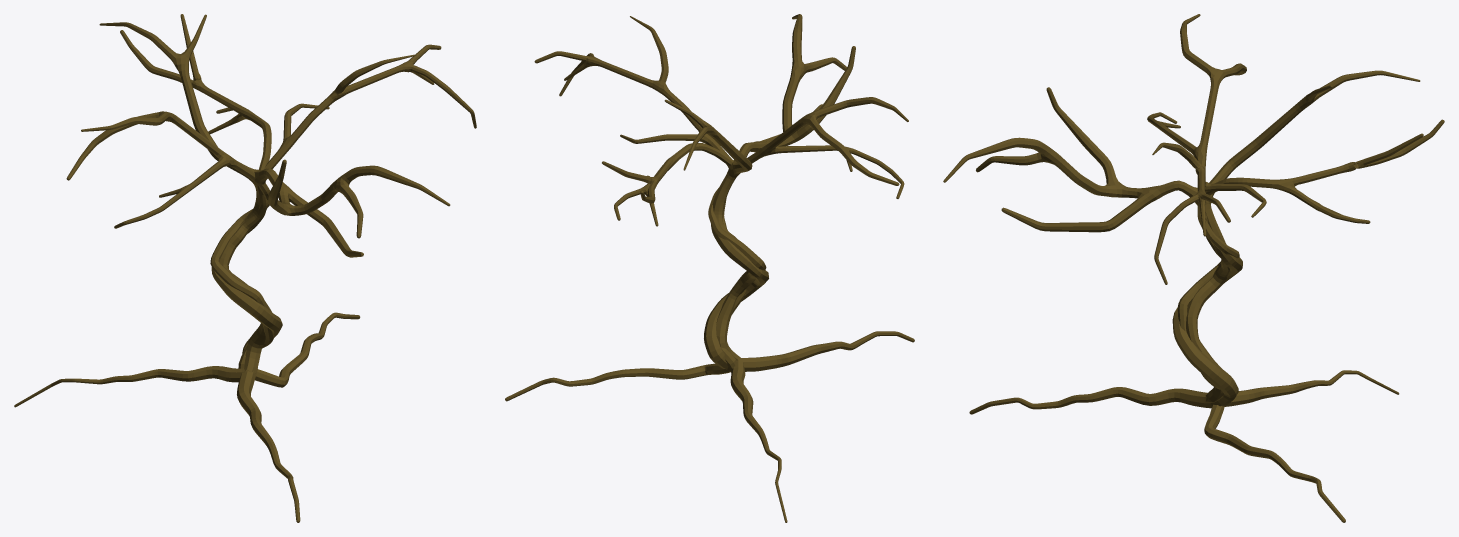
Rendered from fa_main.fbx.
The picture shows the model from 3 angles, left to right: view 1: azimuth 30°, elevation 25°; view 2: azimuth 150°, elevation 25°; view 3: azimuth 270°, elevation 25°; orthographic projection. The views are drawn at different scales.
Visible parts, largest first — view 1: Tree_bigtree_002, Tree_bigtree_001, Tree_bigtree_003; view 2: Tree_bigtree_002, Tree_bigtree_001, Tree_bigtree_003; view 3: Tree_bigtree_001, Tree_bigtree_002, Tree_bigtree_003.
Boxes of the visible parts, x1=… form: Tree_bigtree_002: x1=66, y1=44, x2=476, y2=387; Tree_bigtree_001: x1=99, y1=14, x2=450, y2=522; Tree_bigtree_003: x1=14, y1=14, x2=271, y2=407; Tree_bigtree_002: x1=505, y1=16, x2=908, y2=401; Tree_bigtree_001: x1=664, y1=14, x2=914, y2=371; Tree_bigtree_003: x1=602, y1=143, x2=787, y2=522; Tree_bigtree_001: x1=943, y1=70, x2=1420, y2=414; Tree_bigtree_002: x1=1147, y1=14, x2=1345, y2=522; Tree_bigtree_003: x1=1186, y1=119, x2=1444, y2=406.
Size of the model in its own units: 98.96 by 93.67 by 110.
